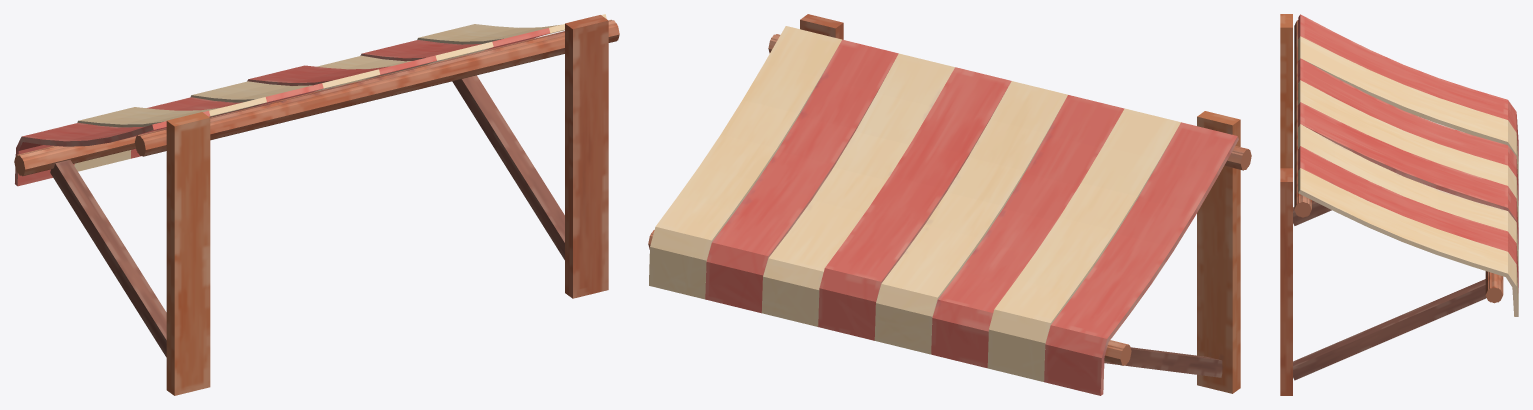
Rendered from awning.bundle.fbx.
3 renders of one model, left to right at view 1: azimuth 30°, elevation 25°; view 2: azimuth 150°, elevation 25°; view 3: azimuth 270°, elevation 25°, orthographic. The views are drawn at different scales.
Visible parts, largest first — view 1: awning, awning_low, awning_s01, awning_s00, awning_s04, awning_s02, awning_s03; view 2: awning, awning_s04, awning_s03, awning_low, awning_s02, awning_s00; view 3: awning, awning_low, awning_s03, awning_s04, awning_s01, awning_s02.
Part boxes in pixels (box(x1,y1,x2,y2)): awning: box(14, 14, 619, 392); awning_low: box(14, 15, 616, 395); awning_s01: box(518, 20, 616, 298); awning_s00: box(147, 21, 608, 395); awning_s04: box(113, 15, 607, 282); awning_s02: box(21, 69, 353, 326); awning_s03: box(302, 30, 564, 151); awning: box(648, 16, 1251, 395); awning_s04: box(786, 14, 1246, 286); awning_s03: box(653, 29, 870, 334); awning_low: box(650, 14, 1251, 393); awning_s02: box(844, 197, 1199, 374); awning_s00: box(800, 28, 1240, 393); awning: box(1283, 14, 1518, 393); awning_low: box(1280, 14, 1502, 395); awning_s03: box(1304, 187, 1518, 333); awning_s04: box(1280, 20, 1426, 189); awning_s01: box(1280, 190, 1403, 395); awning_s02: box(1362, 46, 1517, 222).
Bounding box in the file's own units: 6.9 × 3.75 × 3.78.
Materials: 1 (1 with a texture image).
